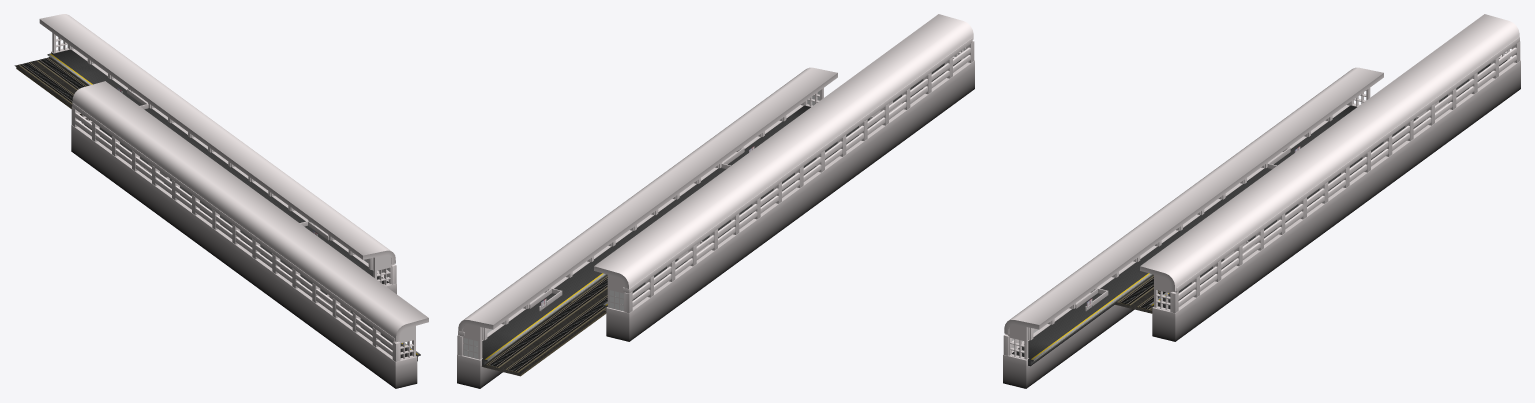
Rendered from NEYAGAWASHI.glb.
3 views of the same model, side by side, from view 1: azimuth 30°, elevation 25°; view 2: azimuth 150°, elevation 25°; view 3: azimuth 330°, elevation 25° (orthographic). The views are drawn at different scales.
Parts seen in each view (by area): view 1: Jari_All; view 2: Jari_All; view 3: Jari_All.
Part boxes in pixels (left/top/right/bottom): Jari_All: left=14, top=14, right=428, bottom=388; Jari_All: left=457, top=14, right=974, bottom=388; Jari_All: left=1003, top=14, right=1520, bottom=388.
Size of the model in its own units: 58.68 by 43.03 by 504.
17 materials, 14 textured.
